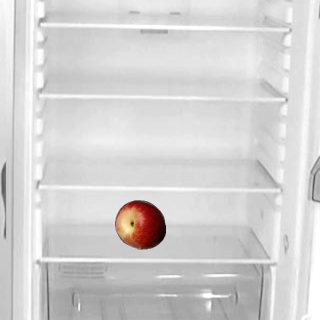Apple Braeburn: (114, 199, 164, 249)
Nectarine: (115, 199, 165, 249)
